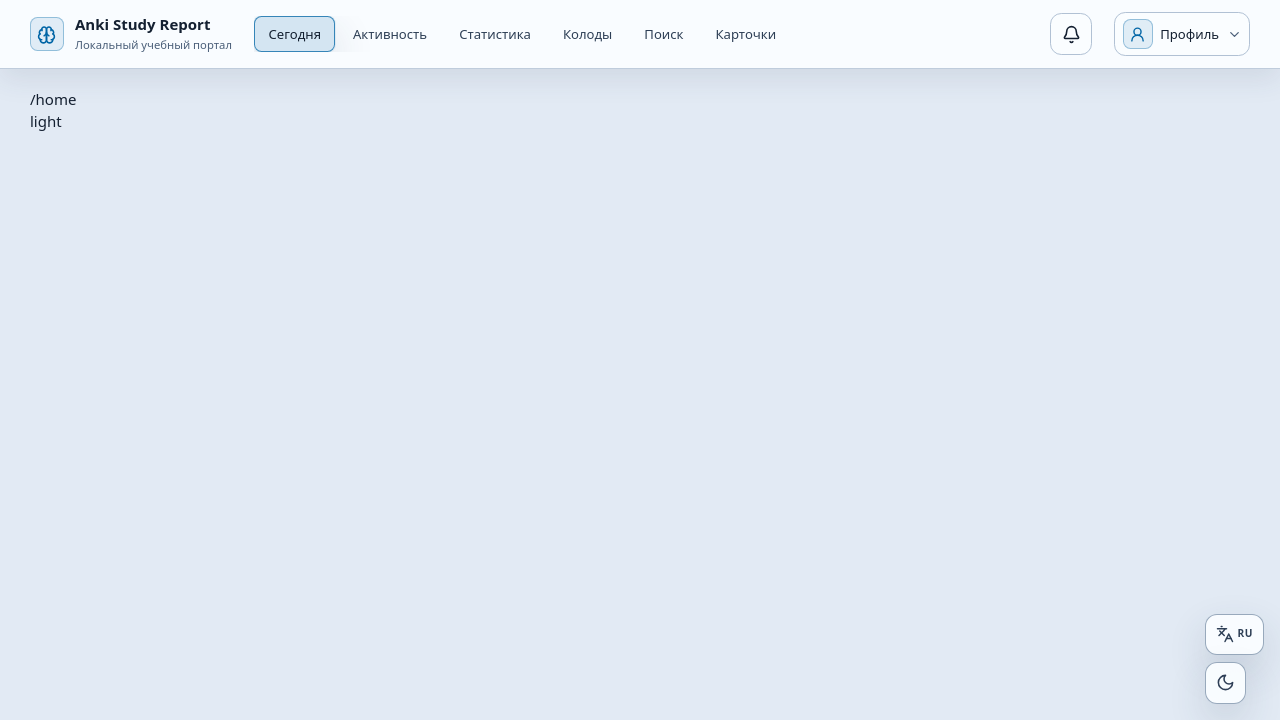
it: AppLayout global utilities › toggles light and dark, stores the existing explicit values, and updates action labels
The width and height of the screenshot is (1280, 720).
Expected: the text with test id "resolved-theme-probe" reads "light", [30,111,62,131]
Step 1. Click the button with test id "theme-toggle" → [1226, 683], box [1205,662,1246,704]
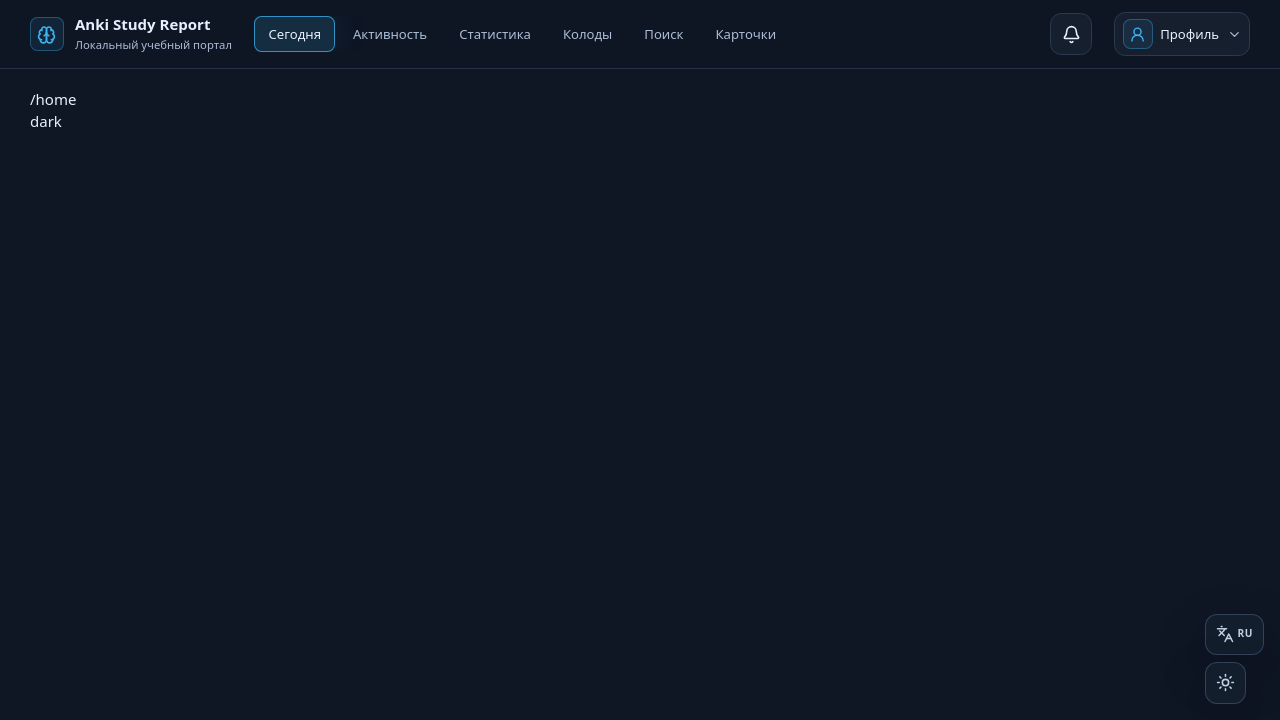
Result: the text with test id "resolved-theme-probe" reads "dark" at [30,111,62,131]
Step 2. Click the button with test id "theme-toggle" → [1226, 683], box [1205,662,1246,704]
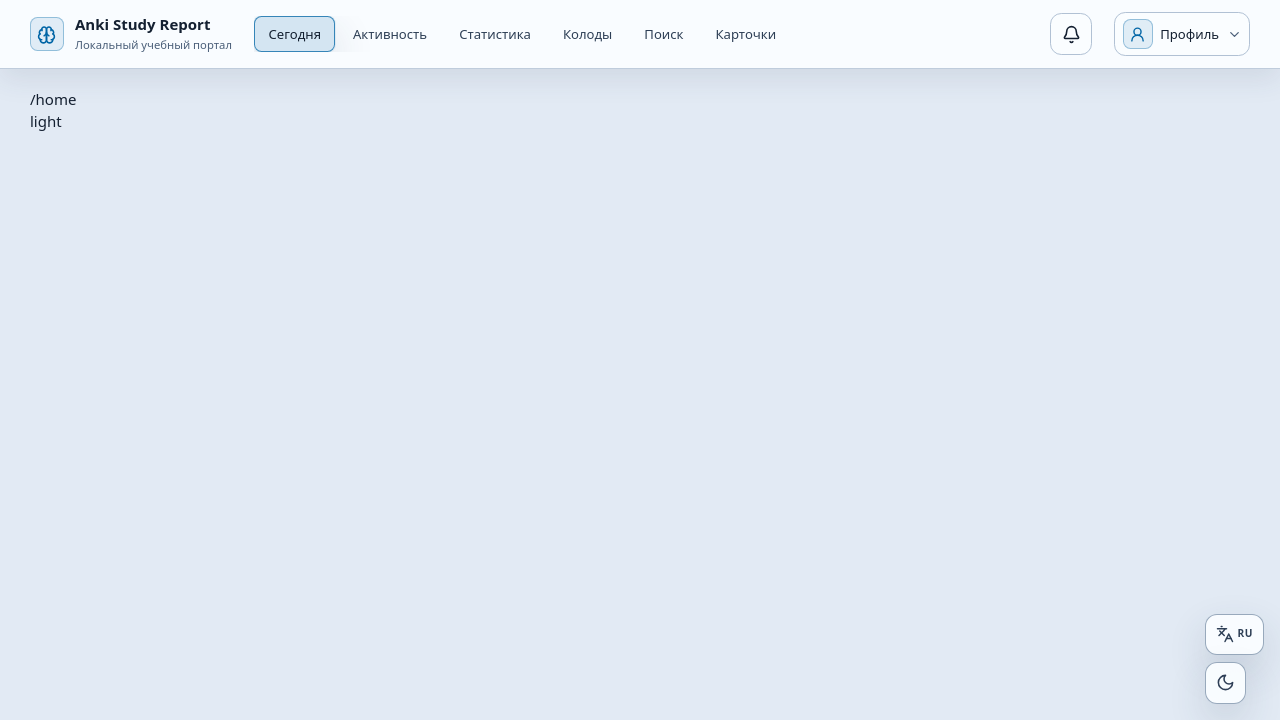
Result: the text with test id "resolved-theme-probe" reads "light" at [30,111,62,131]
